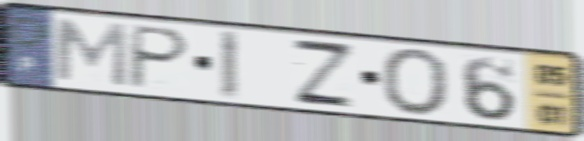6: (459, 54, 519, 123)
I: (216, 28, 241, 103)
M: (52, 16, 130, 90)
O: (379, 46, 451, 118)
P: (125, 23, 193, 91)
Z: (288, 36, 357, 111)
